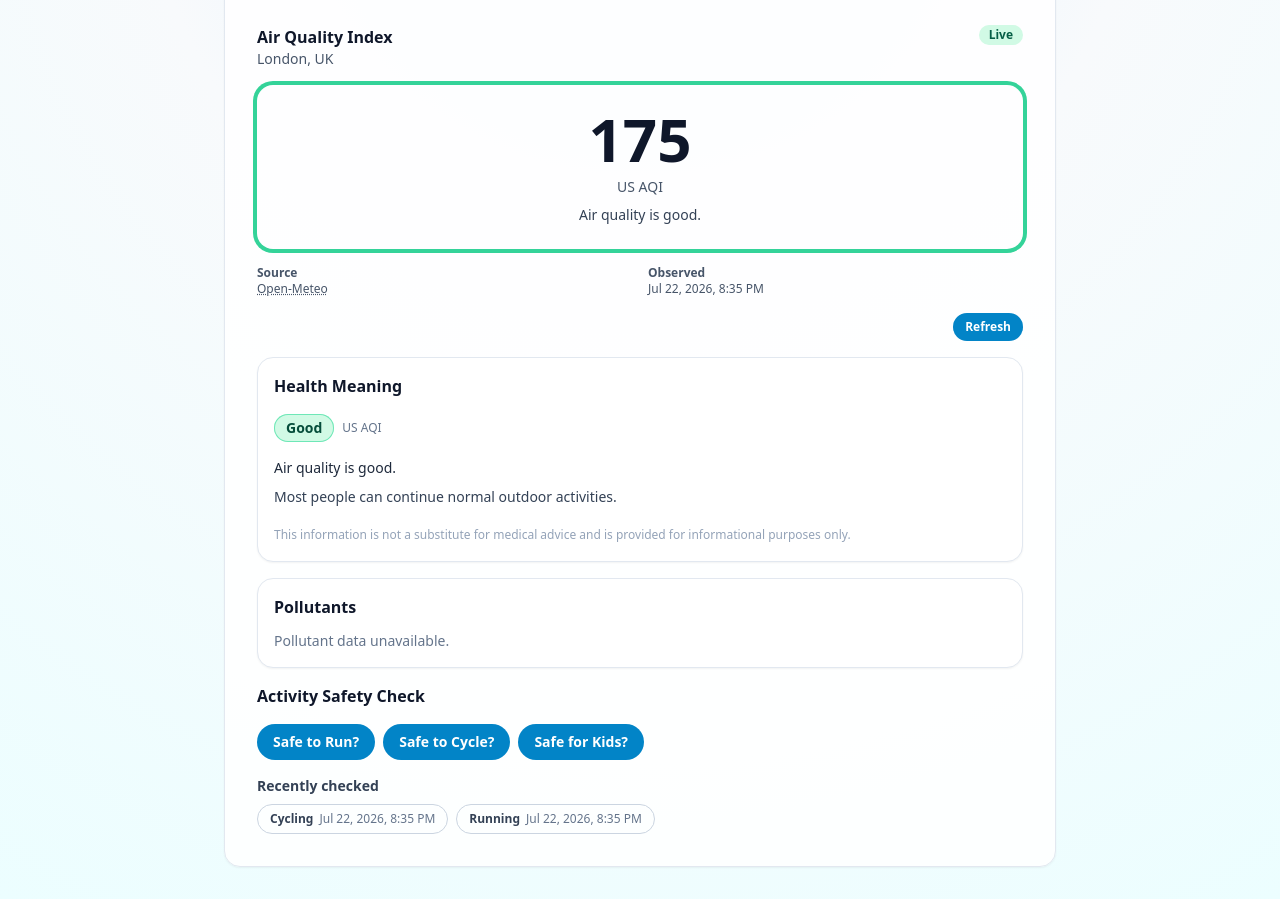
Scenario: Activity Safety Check – Run/Cycle golden path › AQI 175: tapping Safe to Run? shows Stay inside with a plain-language reason
(page scrolled)
Click the button "Safe to Run?".
click(316, 742)  # box [257,724,375,760]
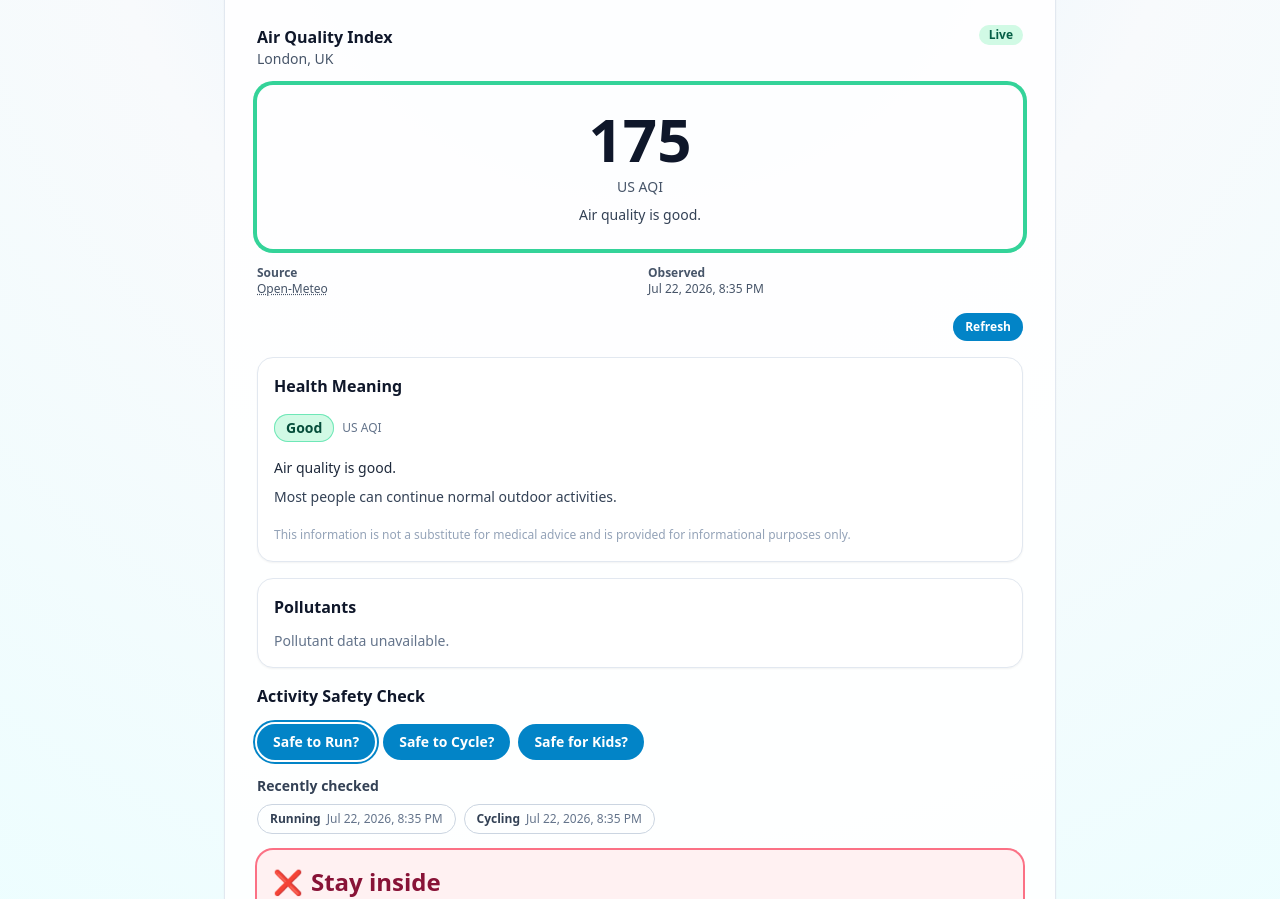
expect the text "Stay inside" is shown: met, box [311,866,441,898]
